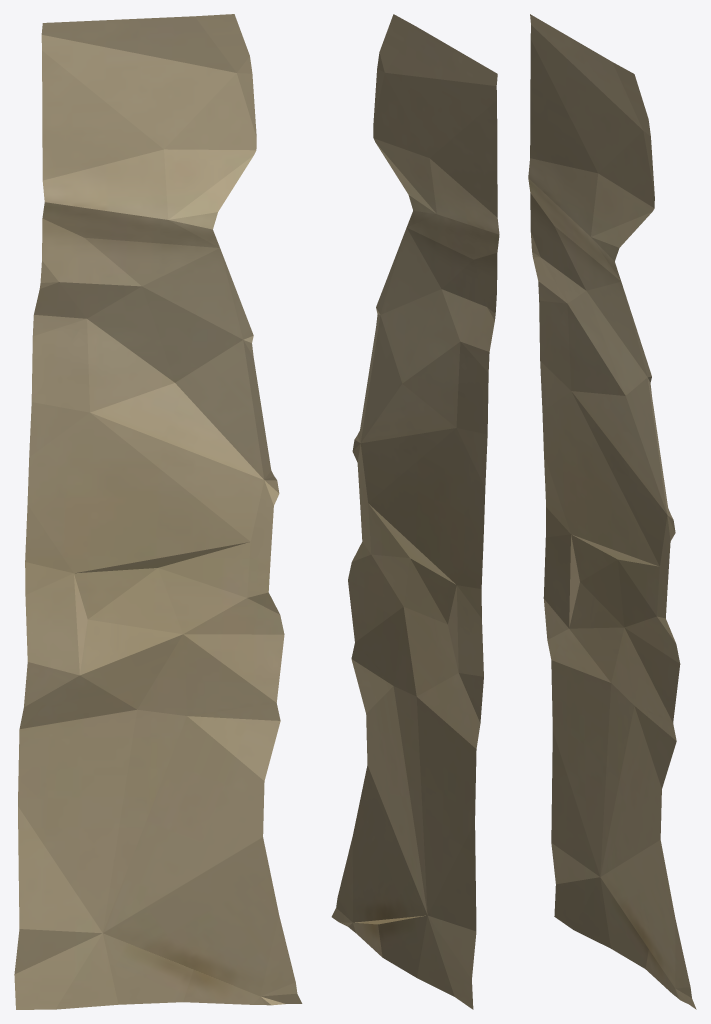
3 renders of one model, left to right at view 1: azimuth 30°, elevation 25°; view 2: azimuth 150°, elevation 25°; view 3: azimuth 330°, elevation 25°, orthographic. The views are drawn at different scales.
Bounding box in the file's own units: 0.3849 × 1.67 × 0.2022.
Materials: 1 (1 with a texture image).
